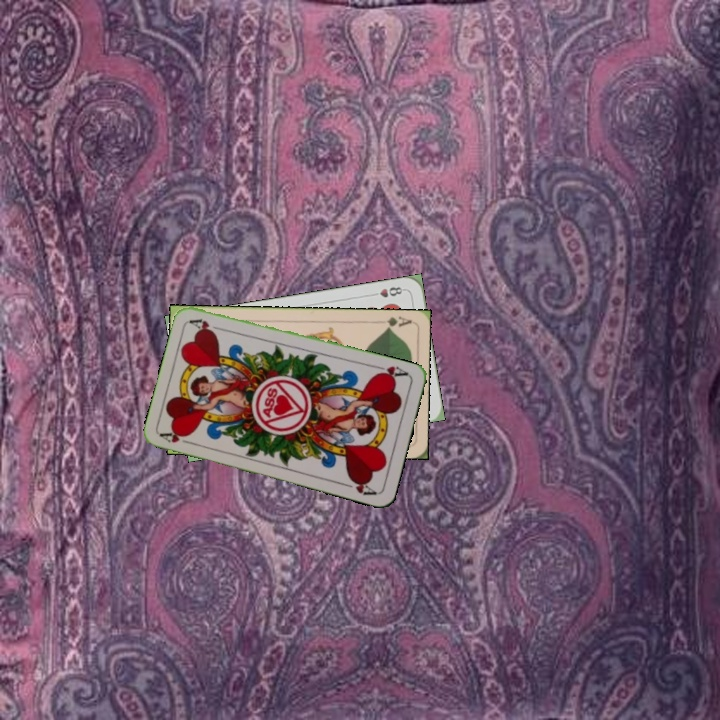GA: (382, 313, 414, 332)
H8: (367, 283, 407, 300)
HA: (371, 361, 411, 382), (157, 426, 197, 447)
